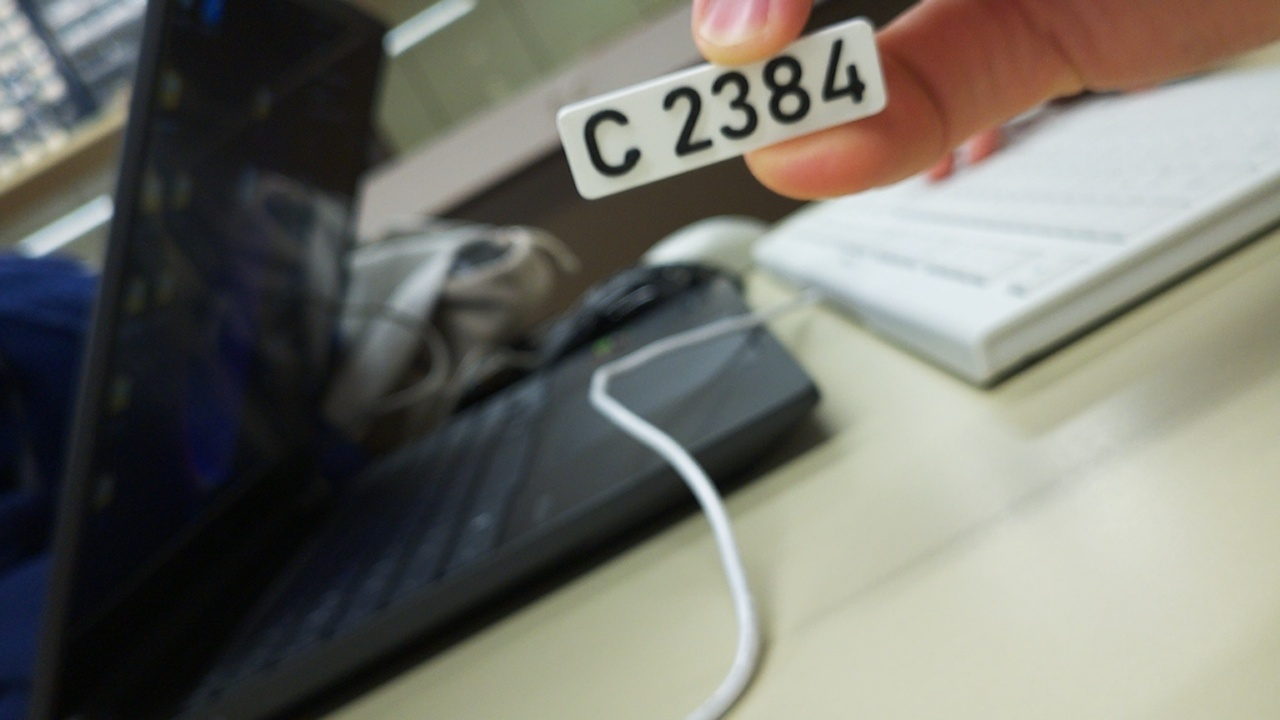license_plate: (554, 17, 891, 203)
